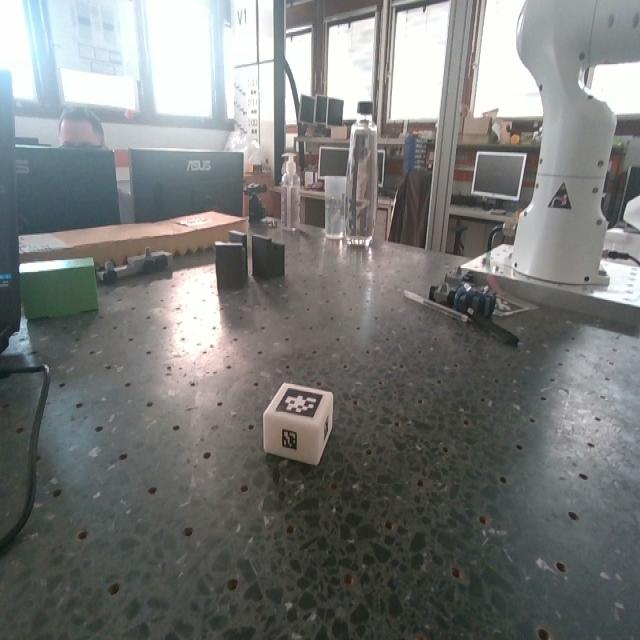Cube: (262, 382, 337, 466)
